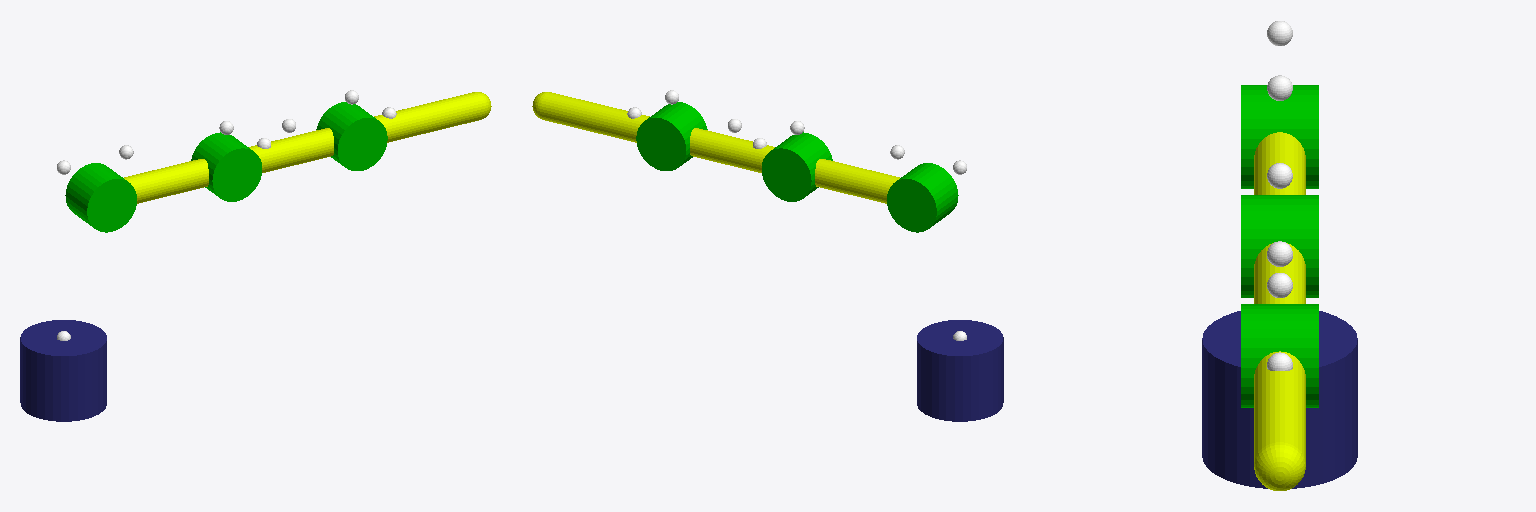
URDF robot description (tendon):
<?xml version="1.0" ?>
<!-- =================================================================================== -->
<!-- |    This document was autogenerated by xacro from [local-path]/ws_humble/src/tendon_description/xacro/finger/finger.urdf.xacro | -->
<!-- |    EDITING THIS FILE BY HAND IS NOT RECOMMENDED                                 | -->
<!-- =================================================================================== -->
<robot name="tendon">
  <link name="base_link">
            </link>
  <link name="base_site1_link">
    <visual name="base_site1_link_vis">
      <origin rpy="0 0 0" xyz="0 0 0"/>
      <geometry>
        <sphere radius="0.005"/>
      </geometry>
      <material name="white">
        <color rgba="1.0 1.0 1.0 1.0"/>
      </material>
    </visual>
    <collision name="base_site1_link_col">
      <origin rpy="0 0 0" xyz="0 0 0"/>
      <geometry>
        <sphere radius="0.005"/>
      </geometry>
    </collision>
    <inertial>
      <origin rpy="0 0 0" xyz="0 0 0"/>
      <mass value="1e-05"/>
      <inertia ixx="8.333333333333334e-11" ixy="0" ixz="0" iyy="8.333333333333334e-11" iyz="0" izz="1.25e-10"/>
    </inertial>
  </link>
  <joint name="base_site1_joint" type="fixed">
    <parent link="base_link"/>
    <child link="base_site1_link"/>
    <origin rpy="0 0 0" xyz="-0.03 0 0.43"/>
    <axis xyz="1 0 0"/>
  </joint>
  <link name="tendon_link">
    <visual name="tendon_link_vis">
      <origin rpy="0. 1.5707963 0." xyz="-0.025 0. 0. "/>
      <geometry>
        <cylinder length="0.05" radius="0.03"/>
      </geometry>
      <material name="purple">
        <color rgba="0.2 0.2 0.5 1.0"/>
      </material>
    </visual>
    <collision name="tendon_link_col">
      <origin rpy="0. 1.5707963 0." xyz="-0.025 0. 0. "/>
      <geometry>
        <cylinder length="0.05" radius="0.03"/>
      </geometry>
    </collision>
    <inertial>
      <origin rpy="0. 1.5707963 0." xyz="-0.025 0. 0. "/>
      <mass value="0.5"/>
      <inertia ixx="0.00021666666666666668" ixy="0" ixz="0" iyy="0.00021666666666666668" iyz="0" izz="0.000225"/>
    </inertial>
  </link>
  <joint name="tendon_joint" type="prismatic">
    <parent link="base_link"/>
    <child link="tendon_link"/>
    <origin rpy="0 -1.5707963 0" xyz="-0.03 0.0 0.3"/>
    <axis xyz="1 0 0"/>
    <limit effort="100" lower="-0.01" upper="0.10471976" velocity="0.8"/>
    <safety_controller k_position="121.0" k_velocity="540.0" soft_lower_limit="0.0" soft_upper_limit="0.09471976"/>
    <dynamics damping="0.003" friction="0.2"/>
  </joint>
  <link name="tendon_site1_link">
    <visual name="tendon_site1_link_vis">
      <origin rpy="0 0 0" xyz="0 0 0"/>
      <geometry>
        <sphere radius="0.005"/>
      </geometry>
      <material name="white">
        <color rgba="1.0 1.0 1.0 1.0"/>
      </material>
    </visual>
    <collision name="tendon_site1_link_col">
      <origin rpy="0 0 0" xyz="0 0 0"/>
      <geometry>
        <sphere radius="0.005"/>
      </geometry>
    </collision>
    <inertial>
      <origin rpy="0 0 0" xyz="0 0 0"/>
      <mass value="1e-05"/>
      <inertia ixx="8.333333333333334e-11" ixy="0" ixz="0" iyy="8.333333333333334e-11" iyz="0" izz="1.25e-10"/>
    </inertial>
  </link>
  <joint name="tendon_site1_joint" type="fixed">
    <parent link="tendon_link"/>
    <child link="tendon_site1_link"/>
    <origin rpy="0 0 0" xyz="0 0 0"/>
    <axis xyz="1 0 0"/>
  </joint>
  <link name="mcp_link">
    <visual name="mcp_link_vis">
      <origin rpy="0 1.5707964 0" xyz="0 0 0 "/>
      <geometry>
        <cylinder length="0.03" radius="0.02"/>
      </geometry>
      <material name="green">
        <color rgba="0.0 0.8 0.0 0.7"/>
      </material>
    </visual>
    <collision name="mcp_link_col">
      <origin rpy="0 1.5707964 0" xyz="0 0 0 "/>
      <geometry>
        <cylinder length="0.03" radius="0.02"/>
      </geometry>
    </collision>
    <inertial>
      <origin rpy="0 1.5707964 0" xyz="0 0 0 "/>
      <mass value="0.1"/>
      <inertia ixx="1.7500000000000002e-05" ixy="0" ixz="0" iyy="1.7500000000000002e-05" iyz="0" izz="2e-05"/>
    </inertial>
  </link>
  <joint name="mcp_joint" type="revolute">
    <parent link="base_link"/>
    <child link="mcp_link"/>
    <origin rpy="0 0 1.5707964" xyz="0.0 0.0 0.4"/>
    <axis xyz="1 0 0"/>
    <limit effort="10" lower="-0.17453292519943295" upper="1.1344640137963142" velocity="0.8"/>
    <safety_controller k_position="121.0" k_velocity="540.0" soft_lower_limit="-0.12217304763960307" soft_upper_limit="1.0821041362364843"/>
    <dynamics damping="0.003" friction="0.2"/>
  </joint>
  <link name="mcp_bar_linkage_link">
    <visual name="mcp_bar_linkage_link_part1_vis">
      <origin rpy="0 0 0" xyz="0 0 0.05"/>
      <geometry>
        <cylinder length="0.1" radius="0.01"/>
      </geometry>
      <material name="yellow">
        <color rgba="0.9 1.0 0.0 0.7"/>
      </material>
    </visual>
    <visual name="mcp_bar_linkage_link_part2_vis">
      <origin xyz="0 0 0.1"/>
      <geometry>
        <sphere radius="0.01"/>
      </geometry>
      <material name="yellow">
        <color rgba="0.9 1.0 0.0 0.7"/>
      </material>
    </visual>
    <visual name="mcp_bar_linkage_link_part3_vis">
      <origin xyz="0 0 0.0"/>
      <geometry>
        <sphere radius="0.01"/>
      </geometry>
      <material name="yellow">
        <color rgba="0.9 1.0 0.0 0.7"/>
      </material>
    </visual>
    <collision name="mcp_bar_linkage_link_part1_col">
      <origin rpy="0 0 0" xyz="0 0 0.05"/>
      <geometry>
        <cylinder length="0.1" radius="0.01"/>
      </geometry>
    </collision>
    <collision name="mcp_bar_linkage_link_part2_col">
      <origin xyz="0 0 0.1"/>
      <geometry>
        <sphere radius="0.01"/>
      </geometry>
    </collision>
    <collision name="mcp_bar_linkage_link_part3_col">
      <origin xyz="0 0 0.0"/>
      <geometry>
        <sphere radius="0.01"/>
      </geometry>
    </collision>
    <inertial>
      <origin rpy="0 0 0" xyz="0 0 0.05"/>
      <mass value="0.1"/>
      <inertia ixx="8.583333333333335e-05" ixy="0" ixz="0" iyy="8.583333333333335e-05" iyz="0" izz="5e-06"/>
    </inertial>
  </link>
  <joint name="mcp_bar_linkage_fixed_joint" type="fixed">
    <parent link="mcp_link"/>
    <child link="mcp_bar_linkage_link"/>
    <origin rpy="1.5707964 0 0" xyz="0.0 0.0 0.0"/>
    <axis xyz="1 0 0"/>
  </joint>
  <link name="mcp_site1_link">
    <visual name="mcp_site1_link_vis">
      <origin rpy="0 0 0" xyz="0 0 0"/>
      <geometry>
        <sphere radius="0.005"/>
      </geometry>
      <material name="white">
        <color rgba="1.0 1.0 1.0 1.0"/>
      </material>
    </visual>
    <collision name="mcp_site1_link_col">
      <origin rpy="0 0 0" xyz="0 0 0"/>
      <geometry>
        <sphere radius="0.005"/>
      </geometry>
    </collision>
    <inertial>
      <origin rpy="0 0 0" xyz="0 0 0"/>
      <mass value="1e-05"/>
      <inertia ixx="8.333333333333334e-11" ixy="0" ixz="0" iyy="8.333333333333334e-11" iyz="0" izz="1.25e-10"/>
    </inertial>
  </link>
  <joint name="mcp_site1_joint" type="fixed">
    <parent link="mcp_link"/>
    <child link="mcp_site1_link"/>
    <origin rpy="0 0 -1.5707964" xyz="0 -0.02 0.03"/>
    <axis xyz="1 0 0"/>
  </joint>
  <link name="pip_link">
    <visual name="pip_link_vis">
      <origin rpy="0 1.5707964 0" xyz="0 0 0 "/>
      <geometry>
        <cylinder length="0.03" radius="0.02"/>
      </geometry>
      <material name="green">
        <color rgba="0.0 0.8 0.0 0.7"/>
      </material>
    </visual>
    <collision name="pip_link_col">
      <origin rpy="0 1.5707964 0" xyz="0 0 0 "/>
      <geometry>
        <cylinder length="0.03" radius="0.02"/>
      </geometry>
    </collision>
    <inertial>
      <origin rpy="0 1.5707964 0" xyz="0 0 0 "/>
      <mass value="0.1"/>
      <inertia ixx="1.7500000000000002e-05" ixy="0" ixz="0" iyy="1.7500000000000002e-05" iyz="0" izz="2e-05"/>
    </inertial>
  </link>
  <joint name="pip_joint" type="revolute">
    <parent link="mcp_link"/>
    <child link="pip_link"/>
    <origin rpy="0 0 0" xyz="0 -0.1 0"/>
    <axis xyz="1 0 0"/>
    <limit effort="10" lower="-0.17453292519943295" upper="1.1344640137963142" velocity="0.8"/>
    <safety_controller k_position="121.0" k_velocity="540.0" soft_lower_limit="-0.12217304763960307" soft_upper_limit="1.0821041362364843"/>
    <dynamics damping="0.003" friction="0.2"/>
  </joint>
  <link name="pip_bar_linkage_link">
    <visual name="pip_bar_linkage_link_part1_vis">
      <origin rpy="0 0 0" xyz="0 0 0.05"/>
      <geometry>
        <cylinder length="0.1" radius="0.01"/>
      </geometry>
      <material name="yellow">
        <color rgba="0.9 1.0 0.0 0.7"/>
      </material>
    </visual>
    <visual name="pip_bar_linkage_link_part2_vis">
      <origin xyz="0 0 0.1"/>
      <geometry>
        <sphere radius="0.01"/>
      </geometry>
      <material name="yellow">
        <color rgba="0.9 1.0 0.0 0.7"/>
      </material>
    </visual>
    <visual name="pip_bar_linkage_link_part3_vis">
      <origin xyz="0 0 0.0"/>
      <geometry>
        <sphere radius="0.01"/>
      </geometry>
      <material name="yellow">
        <color rgba="0.9 1.0 0.0 0.7"/>
      </material>
    </visual>
    <collision name="pip_bar_linkage_link_part1_col">
      <origin rpy="0 0 0" xyz="0 0 0.05"/>
      <geometry>
        <cylinder length="0.1" radius="0.01"/>
      </geometry>
    </collision>
    <collision name="pip_bar_linkage_link_part2_col">
      <origin xyz="0 0 0.1"/>
      <geometry>
        <sphere radius="0.01"/>
      </geometry>
    </collision>
    <collision name="pip_bar_linkage_link_part3_col">
      <origin xyz="0 0 0.0"/>
      <geometry>
        <sphere radius="0.01"/>
      </geometry>
    </collision>
    <inertial>
      <origin rpy="0 0 0" xyz="0 0 0.05"/>
      <mass value="0.1"/>
      <inertia ixx="8.583333333333335e-05" ixy="0" ixz="0" iyy="8.583333333333335e-05" iyz="0" izz="5e-06"/>
    </inertial>
  </link>
  <joint name="pip_bar_linkage_fixed_joint" type="fixed">
    <parent link="pip_link"/>
    <child link="pip_bar_linkage_link"/>
    <origin rpy="1.5707964 0 0" xyz="0.0 0.0 0.0"/>
    <axis xyz="1 0 0"/>
  </joint>
  <link name="pip_site1_link">
    <visual name="pip_site1_link_vis">
      <origin rpy="0 0 0" xyz="0 0 0"/>
      <geometry>
        <sphere radius="0.005"/>
      </geometry>
      <material name="white">
        <color rgba="1.0 1.0 1.0 1.0"/>
      </material>
    </visual>
    <collision name="pip_site1_link_col">
      <origin rpy="0 0 0" xyz="0 0 0"/>
      <geometry>
        <sphere radius="0.005"/>
      </geometry>
    </collision>
    <inertial>
      <origin rpy="0 0 0" xyz="0 0 0"/>
      <mass value="1e-05"/>
      <inertia ixx="8.333333333333334e-11" ixy="0" ixz="0" iyy="8.333333333333334e-11" iyz="0" izz="1.25e-10"/>
    </inertial>
  </link>
  <joint name="pip_site1_joint" type="fixed">
    <parent link="pip_link"/>
    <child link="pip_site1_link"/>
    <origin rpy="0 0 -1.5707964" xyz="0 -0.03 0.01"/>
    <axis xyz="1 0 0"/>
  </joint>
  <link name="pip_site2_link">
    <visual name="pip_site2_link_vis">
      <origin rpy="0 0 0" xyz="0 0 0"/>
      <geometry>
        <sphere radius="0.005"/>
      </geometry>
      <material name="white">
        <color rgba="1.0 1.0 1.0 1.0"/>
      </material>
    </visual>
    <collision name="pip_site2_link_col">
      <origin rpy="0 0 0" xyz="0 0 0"/>
      <geometry>
        <sphere radius="0.005"/>
      </geometry>
    </collision>
    <inertial>
      <origin rpy="0 0 0" xyz="0 0 0"/>
      <mass value="1e-05"/>
      <inertia ixx="8.333333333333334e-11" ixy="0" ixz="0" iyy="8.333333333333334e-11" iyz="0" izz="1.25e-10"/>
    </inertial>
  </link>
  <joint name="pip_site2_joint" type="fixed">
    <parent link="pip_link"/>
    <child link="pip_site2_link"/>
    <origin rpy="0 0 -1.5707964" xyz="0 -0.05 0.02"/>
    <axis xyz="1 0 0"/>
  </joint>
  <link name="pip_site3_link">
    <visual name="pip_site3_link_vis">
      <origin rpy="0 0 0" xyz="0 0 0"/>
      <geometry>
        <sphere radius="0.005"/>
      </geometry>
      <material name="white">
        <color rgba="1.0 1.0 1.0 1.0"/>
      </material>
    </visual>
    <collision name="pip_site3_link_col">
      <origin rpy="0 0 0" xyz="0 0 0"/>
      <geometry>
        <sphere radius="0.005"/>
      </geometry>
    </collision>
    <inertial>
      <origin rpy="0 0 0" xyz="0 0 0"/>
      <mass value="1e-05"/>
      <inertia ixx="8.333333333333334e-11" ixy="0" ixz="0" iyy="8.333333333333334e-11" iyz="0" izz="1.25e-10"/>
    </inertial>
  </link>
  <joint name="pip_site3_joint" type="fixed">
    <parent link="pip_link"/>
    <child link="pip_site3_link"/>
    <origin rpy="0 0 -1.5707964" xyz="0 0 0.03"/>
    <axis xyz="1 0 0"/>
  </joint>
  <link name="dip_link">
    <visual name="dip_link_vis">
      <origin rpy="0 1.5707964 0" xyz="0 0 0"/>
      <geometry>
        <cylinder length="0.03" radius="0.02"/>
      </geometry>
      <material name="green">
        <color rgba="0.0 0.8 0.0 0.7"/>
      </material>
    </visual>
    <collision name="dip_link_col">
      <origin rpy="0 1.5707964 0" xyz="0 0 0"/>
      <geometry>
        <cylinder length="0.03" radius="0.02"/>
      </geometry>
    </collision>
    <inertial>
      <origin rpy="0 1.5707964 0" xyz="0 0 0"/>
      <mass value="0.1"/>
      <inertia ixx="1.7500000000000002e-05" ixy="0" ixz="0" iyy="1.7500000000000002e-05" iyz="0" izz="2e-05"/>
    </inertial>
  </link>
  <joint name="dip_joint" type="revolute">
    <parent link="pip_link"/>
    <child link="dip_link"/>
    <origin rpy="0 0 0" xyz="0 -0.1 0"/>
    <axis xyz="1 0 0"/>
    <limit effort="10" lower="-0.17453292519943295" upper="1.1344640137963142" velocity="0.8"/>
    <safety_controller k_position="121.0" k_velocity="540.0" soft_lower_limit="-0.12217304763960307" soft_upper_limit="1.0821041362364843"/>
    <dynamics damping="0.003" friction="0.2"/>
  </joint>
  <link name="dip_bar_linkage_link">
    <visual name="dip_bar_linkage_link_part1_vis">
      <origin rpy="0 0 0" xyz="0 0 0.05"/>
      <geometry>
        <cylinder length="0.1" radius="0.01"/>
      </geometry>
      <material name="yellow">
        <color rgba="0.9 1.0 0.0 0.7"/>
      </material>
    </visual>
    <visual name="dip_bar_linkage_link_part2_vis">
      <origin xyz="0 0 0.1"/>
      <geometry>
        <sphere radius="0.01"/>
      </geometry>
      <material name="yellow">
        <color rgba="0.9 1.0 0.0 0.7"/>
      </material>
    </visual>
    <visual name="dip_bar_linkage_link_part3_vis">
      <origin xyz="0 0 0.0"/>
      <geometry>
        <sphere radius="0.01"/>
      </geometry>
      <material name="yellow">
        <color rgba="0.9 1.0 0.0 0.7"/>
      </material>
    </visual>
    <collision name="dip_bar_linkage_link_part1_col">
      <origin rpy="0 0 0" xyz="0 0 0.05"/>
      <geometry>
        <cylinder length="0.1" radius="0.01"/>
      </geometry>
    </collision>
    <collision name="dip_bar_linkage_link_part2_col">
      <origin xyz="0 0 0.1"/>
      <geometry>
        <sphere radius="0.01"/>
      </geometry>
    </collision>
    <collision name="dip_bar_linkage_link_part3_col">
      <origin xyz="0 0 0.0"/>
      <geometry>
        <sphere radius="0.01"/>
      </geometry>
    </collision>
    <inertial>
      <origin rpy="0 0 0" xyz="0 0 0.05"/>
      <mass value="0.1"/>
      <inertia ixx="8.583333333333335e-05" ixy="0" ixz="0" iyy="8.583333333333335e-05" iyz="0" izz="5e-06"/>
    </inertial>
  </link>
  <joint name="dip_bar_linkage_fixed_joint" type="fixed">
    <parent link="dip_link"/>
    <child link="dip_bar_linkage_link"/>
    <origin rpy="1.5707964 0 0" xyz="0.0 0.0 0.0"/>
    <axis xyz="1 0 0"/>
  </joint>
  <link name="dip_site1_link">
    <visual name="dip_site1_link_vis">
      <origin rpy="0 0 0" xyz="0 0 0"/>
      <geometry>
        <sphere radius="0.005"/>
      </geometry>
      <material name="white">
        <color rgba="1.0 1.0 1.0 1.0"/>
      </material>
    </visual>
    <collision name="dip_site1_link_col">
      <origin rpy="0 0 0" xyz="0 0 0"/>
      <geometry>
        <sphere radius="0.005"/>
      </geometry>
    </collision>
    <inertial>
      <origin rpy="0 0 0" xyz="0 0 0"/>
      <mass value="1e-05"/>
      <inertia ixx="8.333333333333334e-11" ixy="0" ixz="0" iyy="8.333333333333334e-11" iyz="0" izz="1.25e-10"/>
    </inertial>
  </link>
  <joint name="dip_site1_joint" type="fixed">
    <parent link="dip_link"/>
    <child link="dip_site1_link"/>
    <origin rpy="0 0 -1.5707964" xyz="0 -0.03 0.01"/>
    <axis xyz="1 0 0"/>
  </joint>
  <link name="dip_site2_link">
    <visual name="dip_site2_link_vis">
      <origin rpy="0 0 0" xyz="0 0 0"/>
      <geometry>
        <sphere radius="0.005"/>
      </geometry>
      <material name="white">
        <color rgba="1.0 1.0 1.0 1.0"/>
      </material>
    </visual>
    <collision name="dip_site2_link_col">
      <origin rpy="0 0 0" xyz="0 0 0"/>
      <geometry>
        <sphere radius="0.005"/>
      </geometry>
    </collision>
    <inertial>
      <origin rpy="0 0 0" xyz="0 0 0"/>
      <mass value="1e-05"/>
      <inertia ixx="8.333333333333334e-11" ixy="0" ixz="0" iyy="8.333333333333334e-11" iyz="0" izz="1.25e-10"/>
    </inertial>
  </link>
  <joint name="dip_site2_joint" type="fixed">
    <parent link="dip_link"/>
    <child link="dip_site2_link"/>
    <origin rpy="0 0 -1.5707964" xyz="0 0 0.03"/>
    <axis xyz="1 0 0"/>
  </joint>
  <ros2_control name="finger_system" type="system">
    <hardware>
      <plugin>mujoco_ros2_control/MujocoSystem</plugin>
    </hardware>
    <joint name="tendon_joint">
      <param name="initial_position">0.0</param>
      <command_interface name="position"/>
      <command_interface name="velocity"/>
      <state_interface name="position">
        <param name="initial_value">0.0</param>
      </state_interface>
      <state_interface name="velocity"/>
      <state_interface name="effort"/>
    </joint>
    <transmission name="tendon_transmission">
      <plugin>transmission_interface/SimpleTransmission</plugin>
      <joint name="tendon_joint" role="joint1">
        <mechanical_reduction>1.0</mechanical_reduction>
        <offset>0</offset>
      </joint>
      <actuator name="tendon_actuator" role="actuator1">
        <mechanical_reduction>1.0</mechanical_reduction>
        <offset>0</offset>
      </actuator>
    </transmission>
    <joint name="mcp_joint">
      <param name="initial_position">0.0</param>
      <command_interface name="position"/>
      <command_interface name="velocity"/>
      <state_interface name="position">
        <param name="initial_value">0.0</param>
      </state_interface>
      <state_interface name="velocity"/>
      <state_interface name="effort"/>
    </joint>
    <transmission name="mcp_transmission">
      <plugin>transmission_interface/SimpleTransmission</plugin>
      <joint name="mcp_joint" role="joint1">
        <mechanical_reduction>1.0</mechanical_reduction>
        <offset>0</offset>
      </joint>
      <actuator name="mcp_actuator" role="actuator1">
        <mechanical_reduction>1.0</mechanical_reduction>
        <offset>0</offset>
      </actuator>
    </transmission>
    <joint name="pip_joint">
      <param name="initial_position">0.0</param>
      <command_interface name="position"/>
      <command_interface name="velocity"/>
      <state_interface name="position">
        <param name="initial_value">0.0</param>
      </state_interface>
      <state_interface name="velocity"/>
      <state_interface name="effort"/>
    </joint>
    <transmission name="pip_transmission">
      <plugin>transmission_interface/SimpleTransmission</plugin>
      <joint name="pip_joint" role="joint1">
        <mechanical_reduction>1.0</mechanical_reduction>
        <offset>0</offset>
      </joint>
      <actuator name="pip_actuator" role="actuator1">
        <mechanical_reduction>1.0</mechanical_reduction>
        <offset>0</offset>
      </actuator>
    </transmission>
    <joint name="dip_joint">
      <param name="initial_position">0.0</param>
      <command_interface name="position"/>
      <command_interface name="velocity"/>
      <state_interface name="position">
        <param name="initial_value">0.0</param>
      </state_interface>
      <state_interface name="velocity"/>
      <state_interface name="effort"/>
    </joint>
    <transmission name="dip_transmission">
      <plugin>transmission_interface/SimpleTransmission</plugin>
      <joint name="dip_joint" role="joint1">
        <mechanical_reduction>1.0</mechanical_reduction>
        <offset>0</offset>
      </joint>
      <actuator name="dip_actuator" role="actuator1">
        <mechanical_reduction>1.0</mechanical_reduction>
        <offset>0</offset>
      </actuator>
    </transmission>
  </ros2_control>
  <mujoco>
    <compiler angle="degree" balanceinertia="true" convexhull="true" discardvisual="false" eulerseq="xyz" fusestatic="false" meshdir="../meshes/finger/visual" strippath="true" texturedir="../textures/"/>
    <option collision="all" timestep="0.001"/>
  </mujoco>
</robot>

--- Facts derived from the render (not from the file) ---
Views: 3 orthographic renders of the robot side by side, from view 1: azimuth 30°, elevation 25°; view 2: azimuth 150°, elevation 25°; view 3: azimuth 270°, elevation 25°.
Model tendon with 16 links and 15 joints (3 revolute, 1 prismatic, 11 fixed), rooted at base_link, posed all joints at 0.
Links seen in each view (by area): view 1: tendon_link, mcp_link, dip_link, pip_link, dip_bar_linkage_link, mcp_bar_linkage_link, pip_bar_linkage_link; view 2: tendon_link, mcp_link, dip_link, pip_link, dip_bar_linkage_link, mcp_bar_linkage_link, pip_bar_linkage_link; view 3: tendon_link, dip_bar_linkage_link, dip_link, pip_link, mcp_link, mcp_bar_linkage_link, pip_bar_linkage_link, pip_site3_link, pip_site2_link, mcp_site1_link.
Boxes of the visible links, bbox=[...] form: tendon_link: bbox=[20, 320, 106, 421]; mcp_link: bbox=[65, 163, 136, 232]; dip_link: bbox=[316, 102, 387, 170]; pip_link: bbox=[191, 132, 261, 201]; dip_bar_linkage_link: bbox=[374, 92, 491, 142]; mcp_bar_linkage_link: bbox=[124, 159, 208, 203]; pip_bar_linkage_link: bbox=[249, 128, 333, 172]; tendon_link: bbox=[917, 320, 1003, 421]; mcp_link: bbox=[887, 163, 958, 232]; dip_link: bbox=[636, 102, 707, 170]; pip_link: bbox=[762, 132, 832, 201]; dip_bar_linkage_link: bbox=[532, 92, 649, 142]; mcp_bar_linkage_link: bbox=[815, 159, 899, 203]; pip_bar_linkage_link: bbox=[690, 128, 774, 172]; tendon_link: bbox=[1202, 311, 1357, 488]; dip_bar_linkage_link: bbox=[1254, 351, 1305, 490]; dip_link: bbox=[1241, 304, 1318, 407]; pip_link: bbox=[1241, 195, 1318, 297]; mcp_link: bbox=[1241, 85, 1318, 188]; mcp_bar_linkage_link: bbox=[1254, 132, 1305, 194]; pip_bar_linkage_link: bbox=[1254, 243, 1305, 303]; pip_site3_link: bbox=[1267, 163, 1292, 188]; pip_site2_link: bbox=[1267, 241, 1292, 266]; mcp_site1_link: bbox=[1267, 75, 1292, 100].
Size in the robot's own frame: 0.37 by 0.06 by 0.185 metres.
Geometry: primitives only (box / cylinder / sphere), no mesh files.